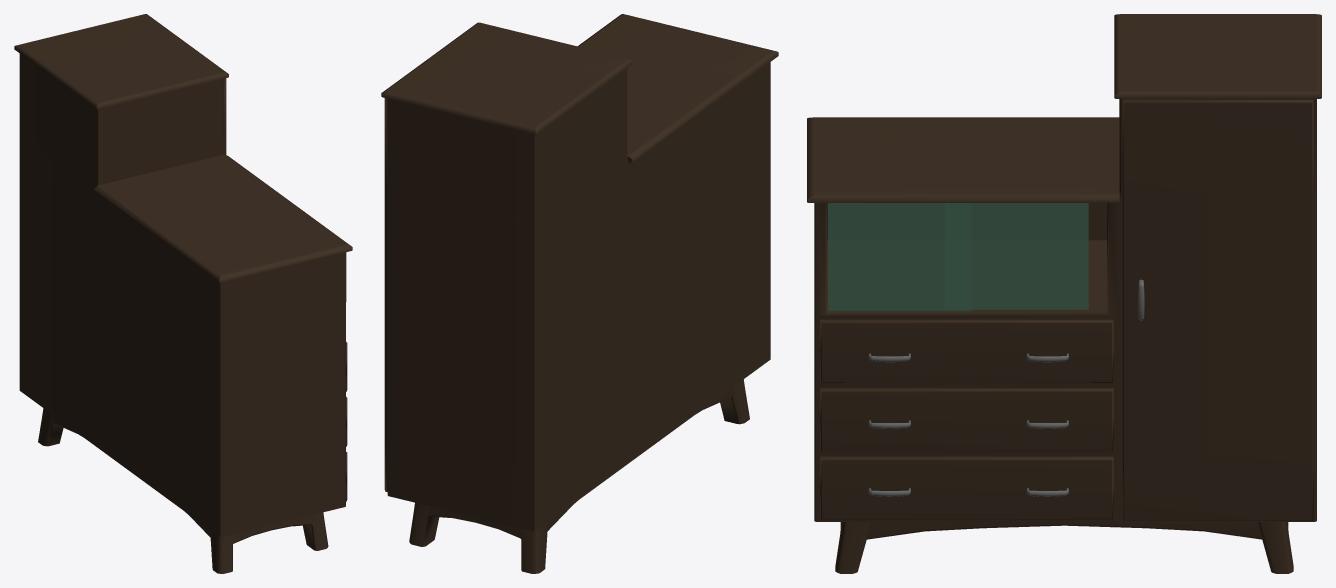
File: tv_stand.fbx
3 views of the same model, side by side, from view 1: azimuth 30°, elevation 25°; view 2: azimuth 150°, elevation 25°; view 3: azimuth 270°, elevation 25° (orthographic). The views are drawn at different scales.
Parts seen in each view (by area): view 1: tv_stand; view 2: tv_stand; view 3: tv_stand.
Part boxes in pixels (box(x1,y1,x2,y2)): tv_stand: box(14, 14, 352, 573); tv_stand: box(381, 14, 778, 573); tv_stand: box(807, 14, 1321, 573).
Bounding box in the file's own units: 1.17 × 3.09 × 2.95.
